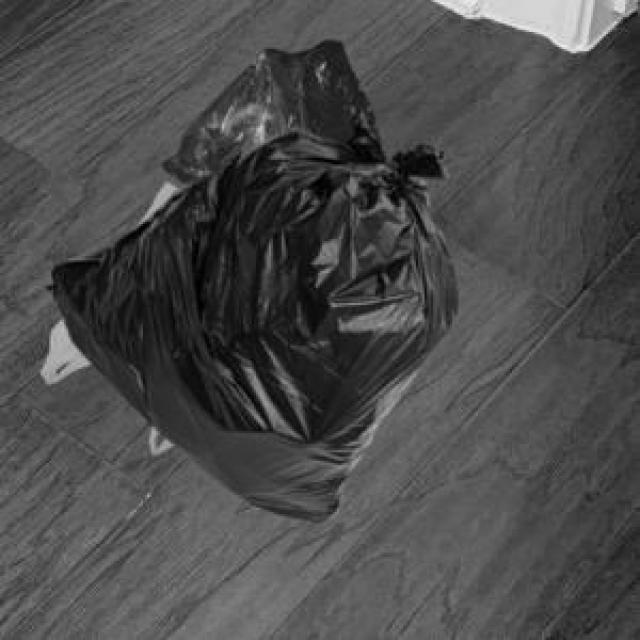miscellaneous trash: (43, 102, 454, 521)
